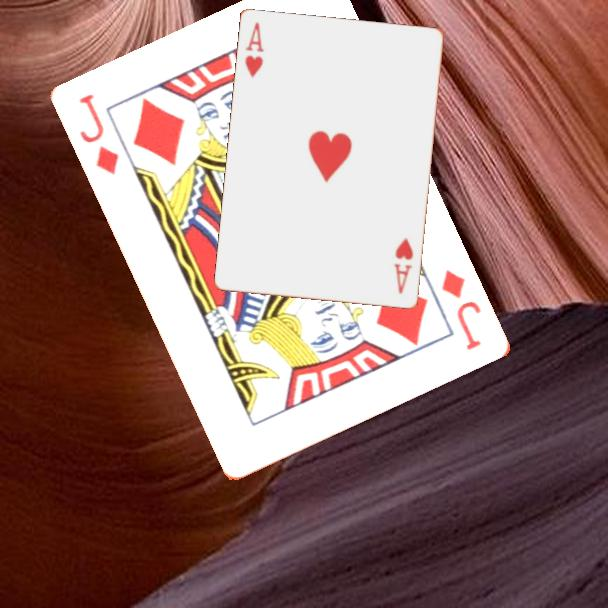d11: (438, 266, 485, 354), (76, 90, 123, 178)
h01: (391, 235, 416, 297), (242, 19, 267, 81)
